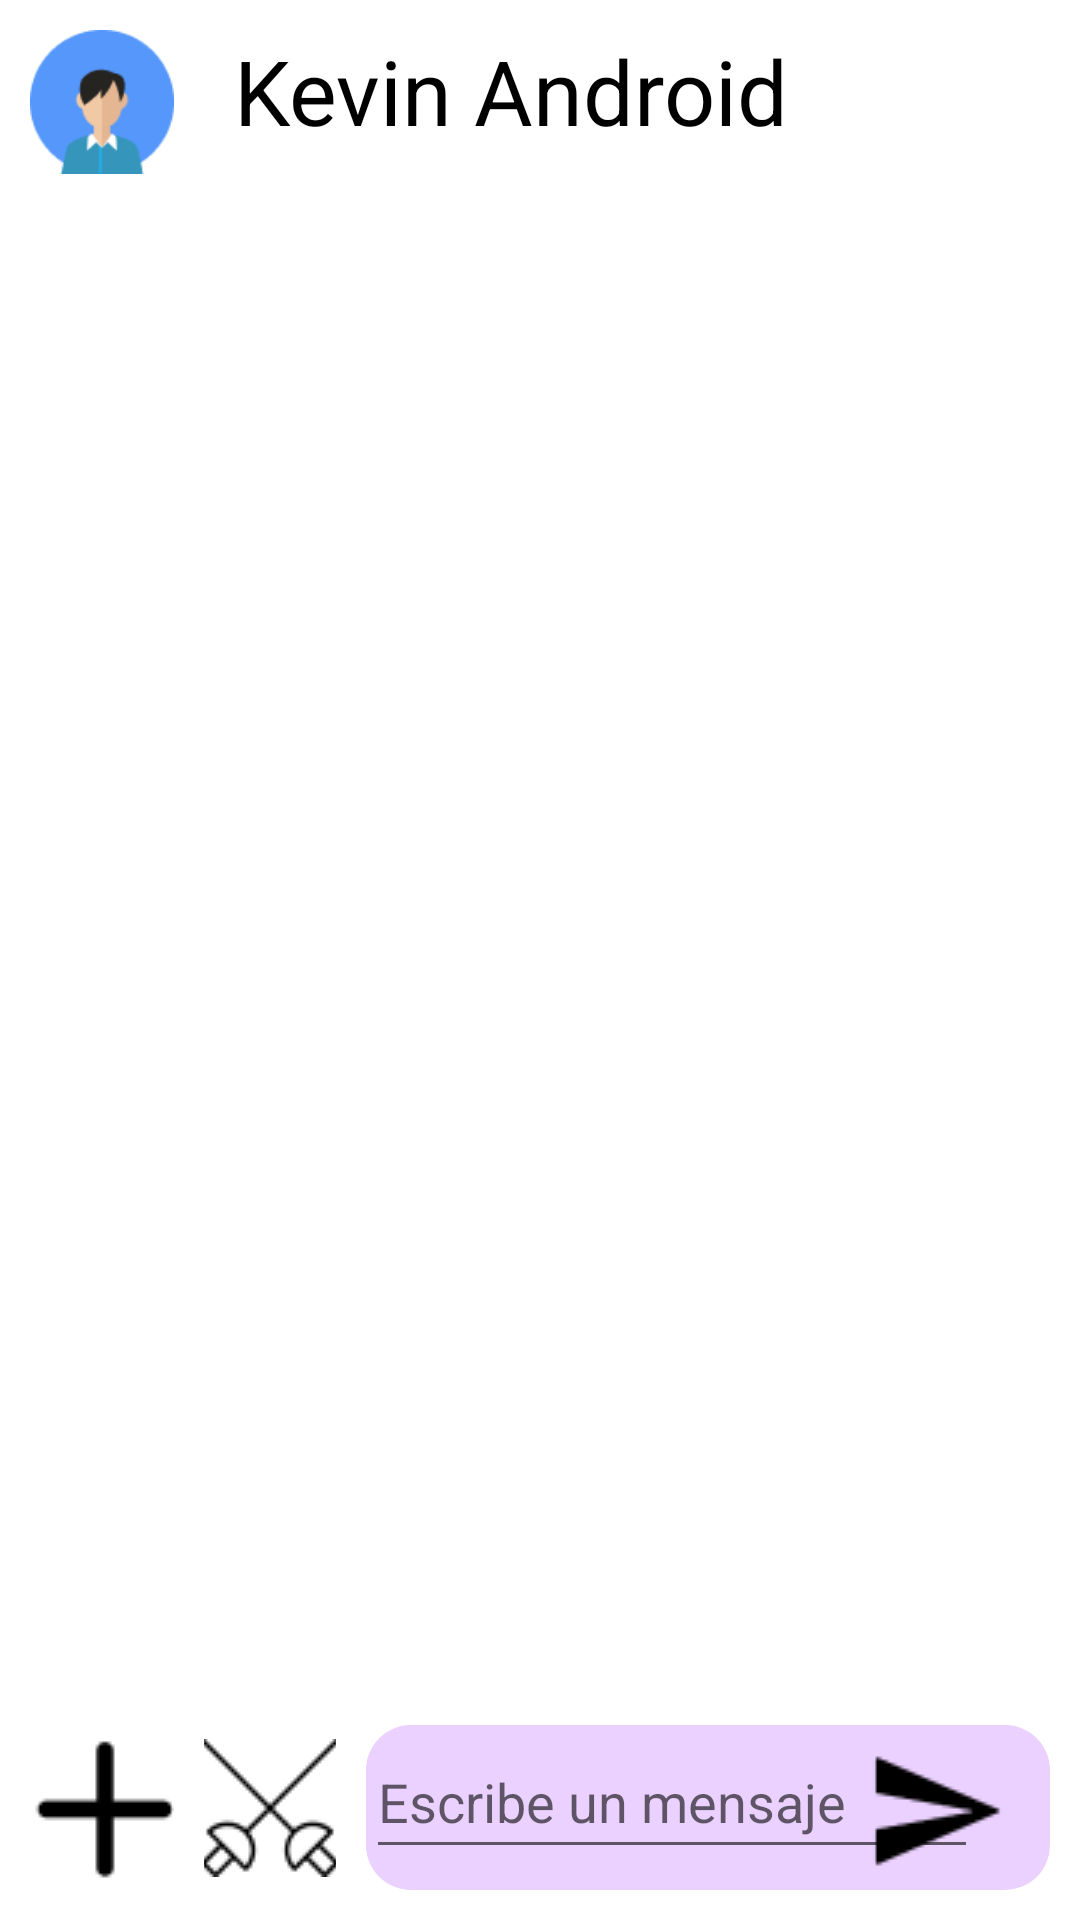

Where icons sit on this 1080×1920 app screen, as (x1, y1, x2, y2):
Enviar: (828, 1725, 1050, 1890)
fotop: (30, 30, 174, 174)
más: (36, 1741, 174, 1878)
Retar: (204, 1739, 336, 1877)
